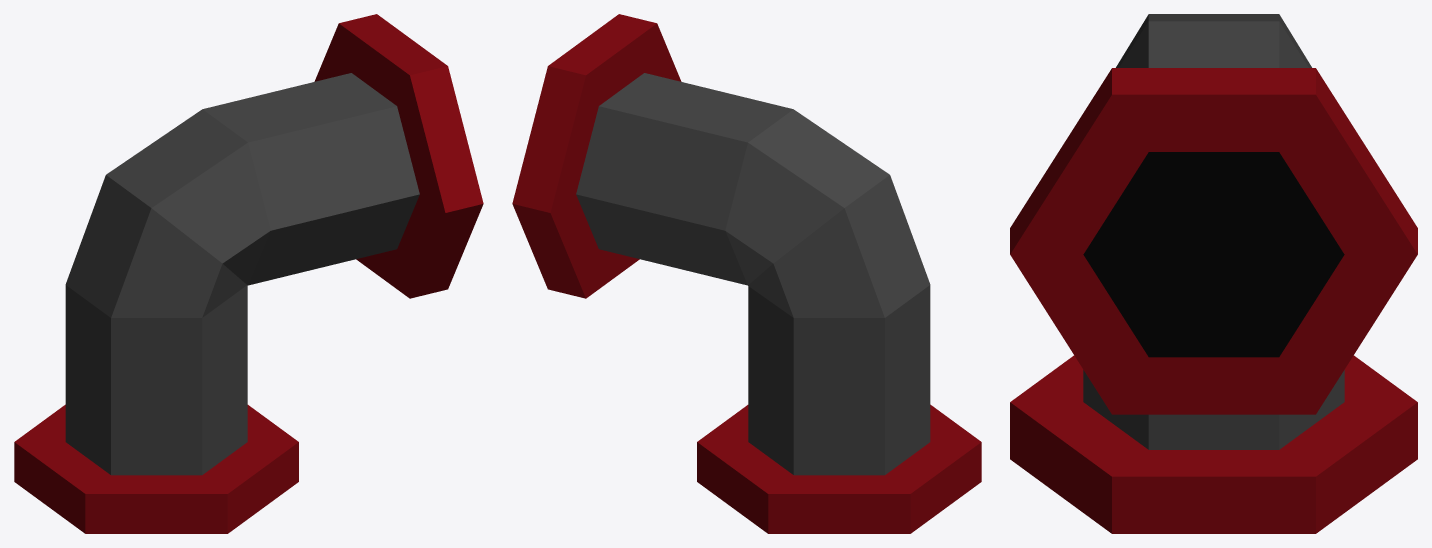
File: truba90.fbx
3 views of the same model, side by side, from view 1: azimuth 30°, elevation 25°; view 2: azimuth 150°, elevation 25°; view 3: azimuth 270°, elevation 25° (orthographic). The views are drawn at different scales.
Visible parts, largest first — view 1: Cylinder.001; view 2: Cylinder.001; view 3: Cylinder.001.
Boxes of the visible parts, left/top/right/bottom form: Cylinder.001: left=14, top=14, right=483, bottom=533; Cylinder.001: left=512, top=14, right=981, bottom=533; Cylinder.001: left=1010, top=14, right=1417, bottom=533.
Size of the model in its own units: 142 by 142 by 96.32.
